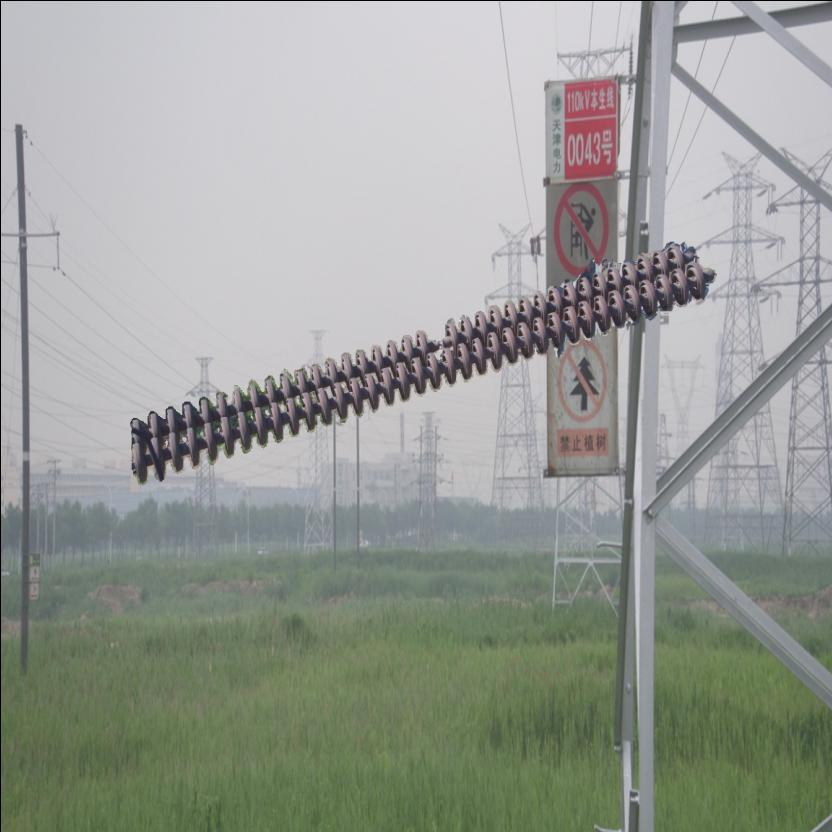defect: (412, 314, 458, 358)
